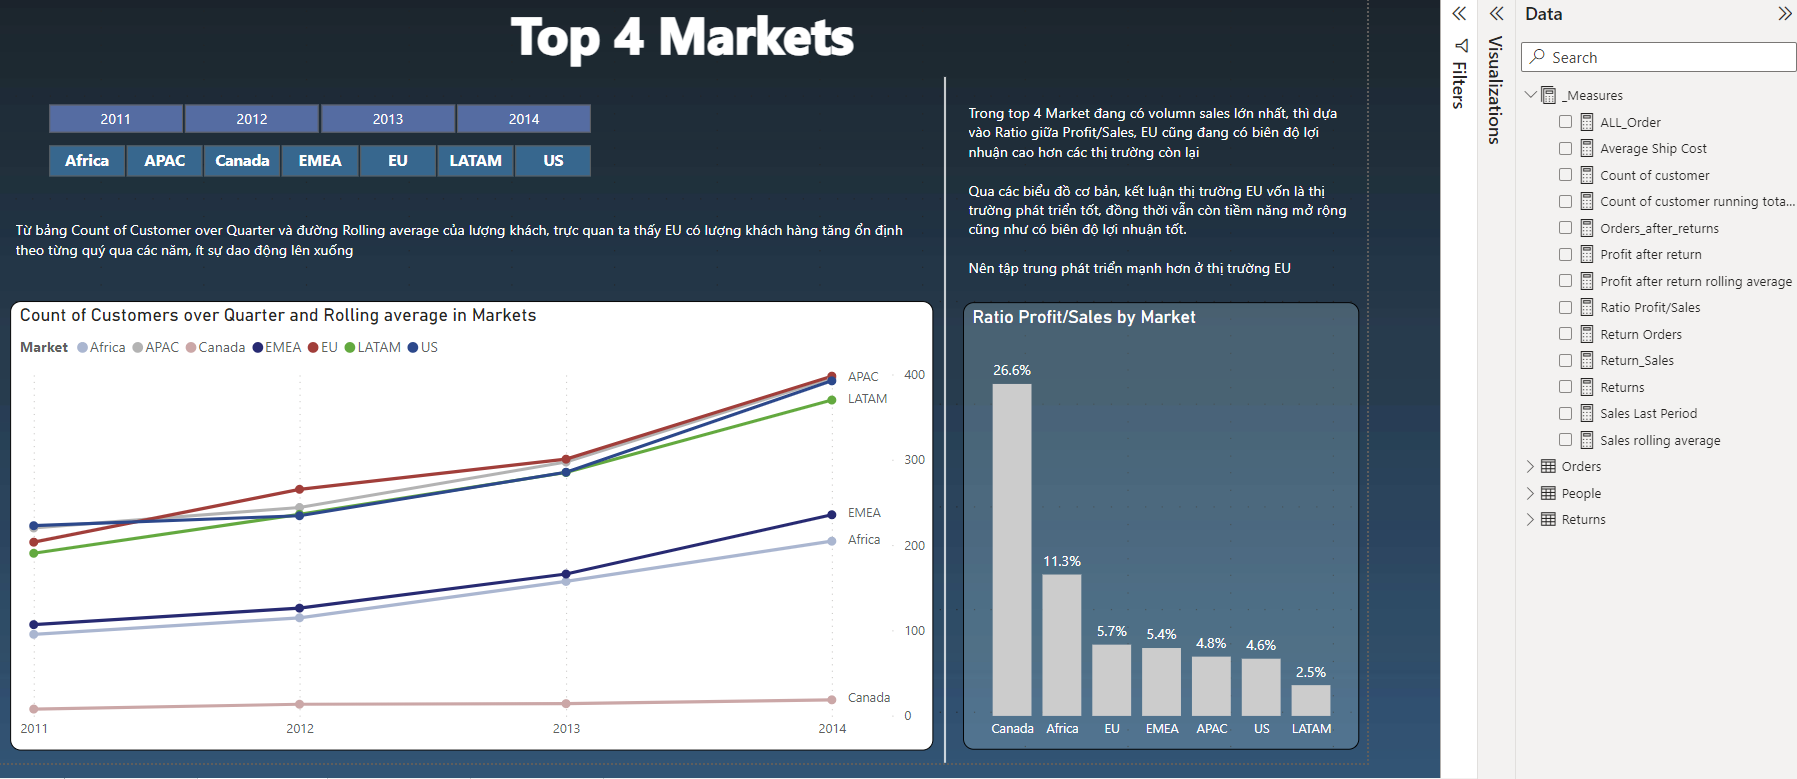

This screenshot's page, from the dashboard's own definition file:
{"tool":"powerbi","page":{"name":"Top 4 Markets","canvas":[1280,720],"ordinal":1},"visuals":[{"type":"textbox","box":[0,0,1280,97.5],"z":0},{"type":"textbox","box":[11.5,206.1,862.7,60.2],"z":1000},{"type":"columnChart","title":"Ratio Profit/Sales by Market","fields":{"Y":["_Measures.Ratio Sales/Profit"],"Category":["Orders.Market"]},"box":[902.5,288.8,370,418.8],"z":2000},{"type":"textbox","box":[902.5,97.5,370,191.2],"z":3000},{"type":"shape","box":[878.8,78.8,13.8,641.2],"z":4000},{"type":"lineChart","title":"Count of Customers over Quarter and Rolling average in Markets","fields":{"Category":["Orders.Order Date.Variation.Date Hierarchy.Year"],"Y2":["_Measures.Count of customer running total in Order Date rolling average"],"Series":["Orders.Market"]},"box":[11.5,288,862.7,419.8],"z":5000},{"type":"slicer","fields":{"Values":["Orders.Order Date.Variation.Date Hierarchy.Year"]},"box":[21.8,97.3,556.8,38.4],"z":6000},{"type":"slicer","fields":{"Values":["Orders.Market"]},"box":[21.8,135.7,556.8,42.2],"z":7000}]}

Visuals, with their boxes on the page's 1280x720 design canvas (x1, y1, x2, y2). These are canvas units, not pixel positions in the 1797x779 screenshot, which may show the page scaled, cropped or inside an application window:
textbox: locate(0, 0, 1280, 98)
textbox: locate(12, 206, 874, 266)
"Ratio Profit/Sales by Market" columnChart: locate(902, 289, 1272, 708)
textbox: locate(902, 98, 1272, 289)
shape: locate(879, 79, 893, 720)
"Count of Customers over Quarter and Rolling average in Markets" lineChart: locate(12, 288, 874, 708)
slicer - Orders.Order Date.Variation.Date Hierarchy.Year: locate(22, 97, 579, 136)
slicer - Orders.Market: locate(22, 136, 579, 178)
